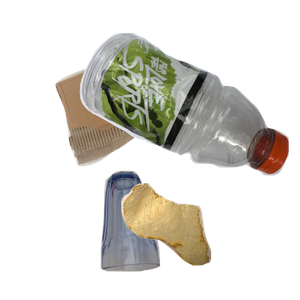cardboard: (53, 45, 221, 204)
glass: (98, 168, 251, 300)
plastic: (77, 30, 300, 198)
trash: (119, 181, 300, 300)
